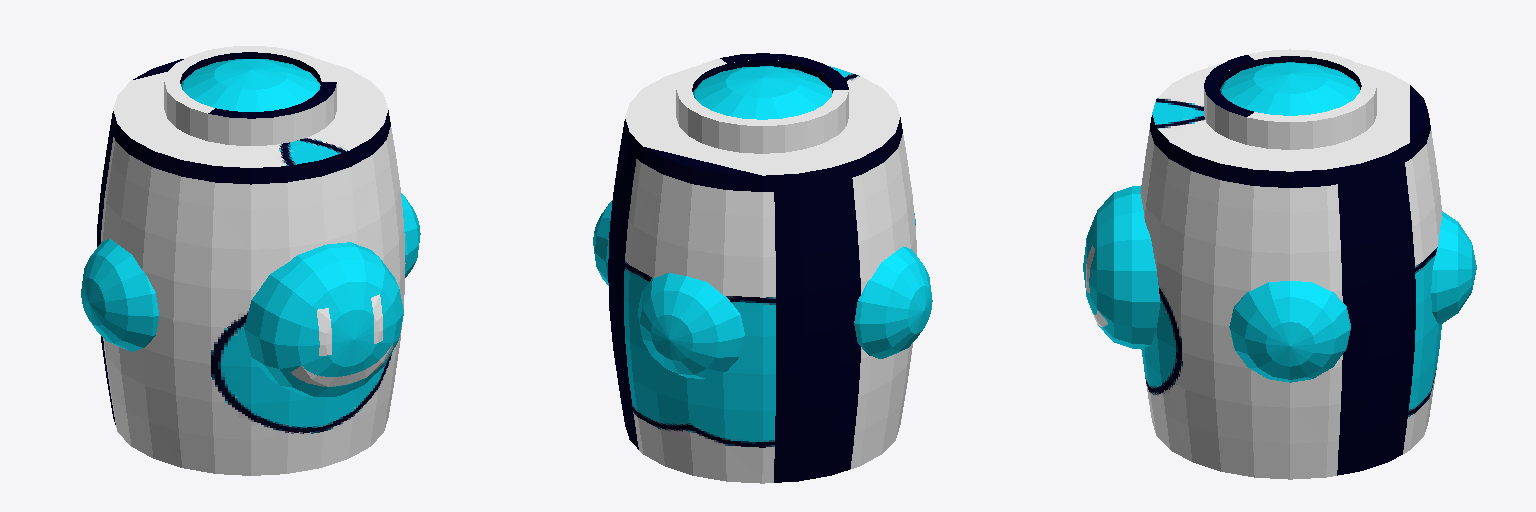
3 views of the same model, side by side, from view 1: azimuth 30°, elevation 25°; view 2: azimuth 150°, elevation 25°; view 3: azimuth 270°, elevation 25° (orthographic).
Visible parts, largest first — view 1: Item_Stock; view 2: Item_Stock; view 3: Item_Stock.
Part boxes in pixels (left/top/right/bottom): Item_Stock: left=81, top=46, right=420, bottom=475; Item_Stock: left=593, top=53, right=932, bottom=483; Item_Stock: left=1083, top=49, right=1476, bottom=479.
Size of the model in its own units: 2.29 by 2.46 by 2.42.
1 materials, 1 textured.